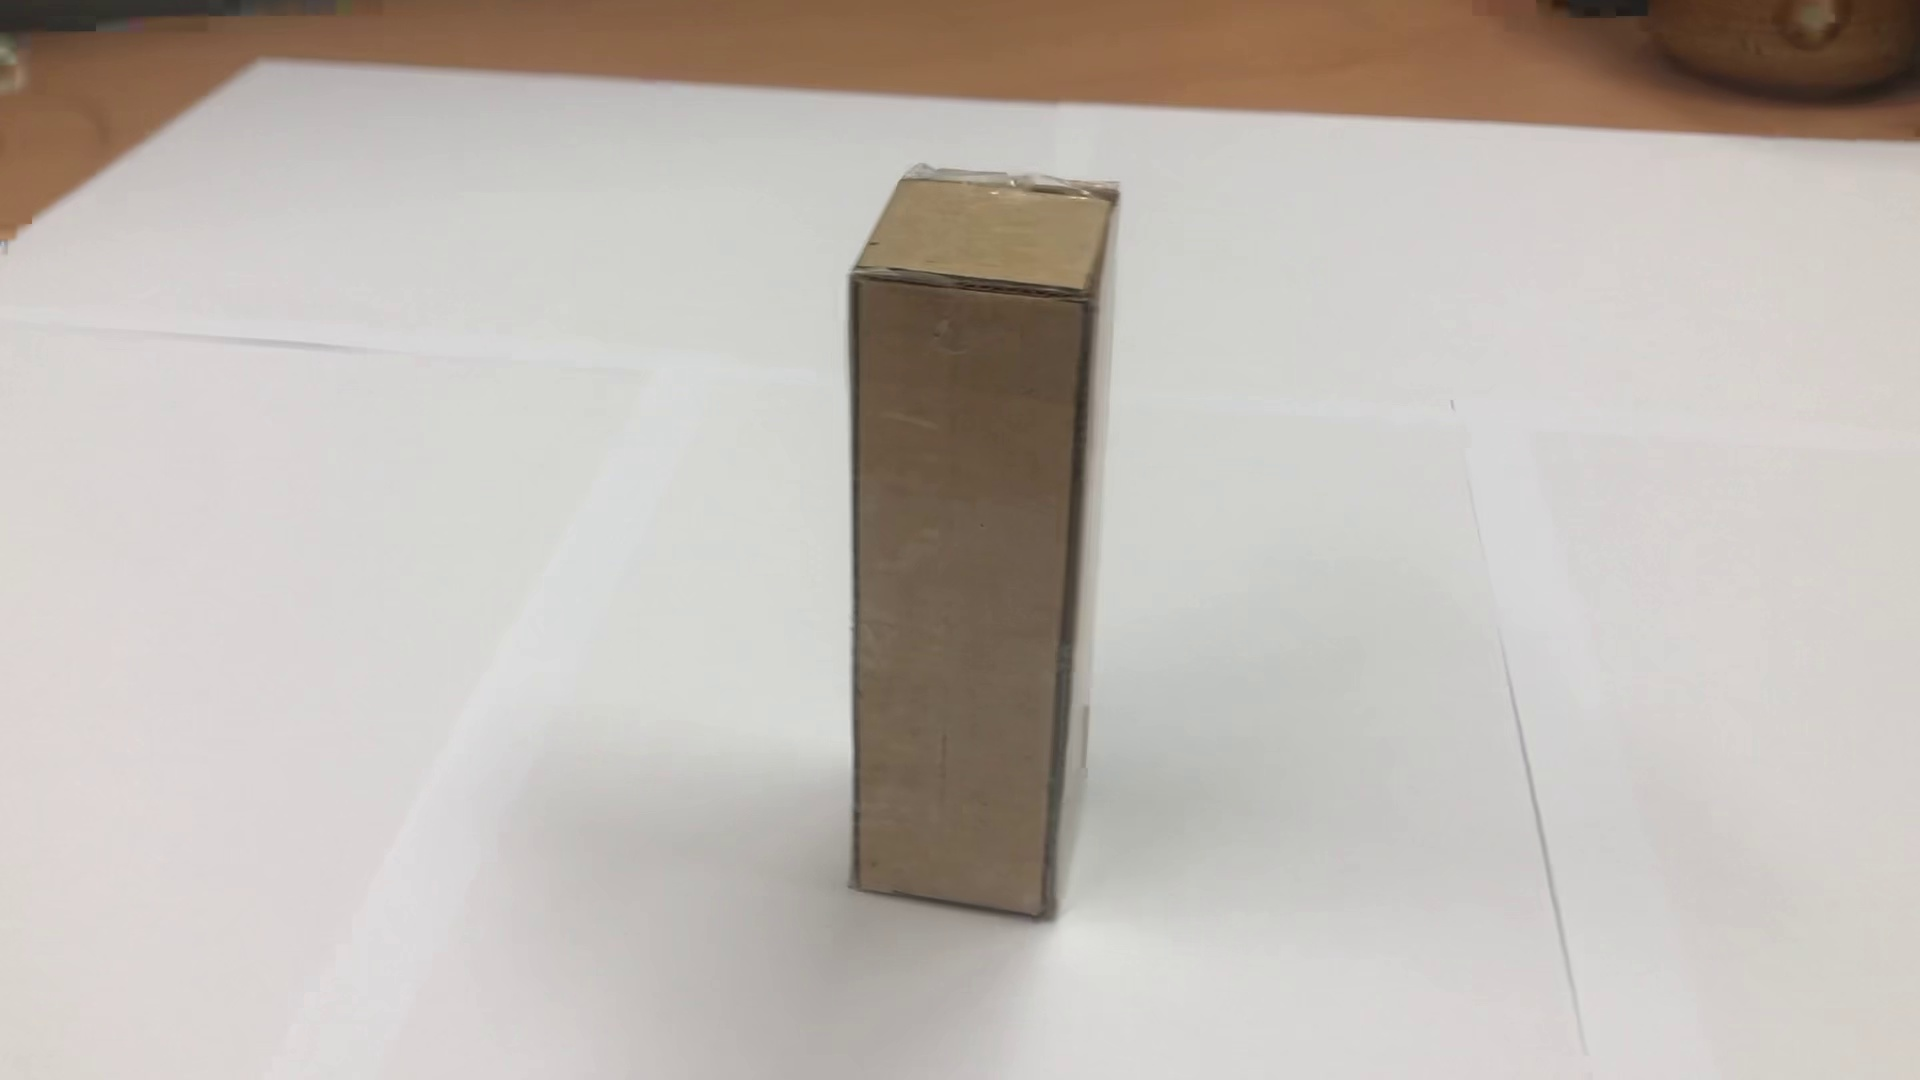box: (818, 142, 1143, 952)
